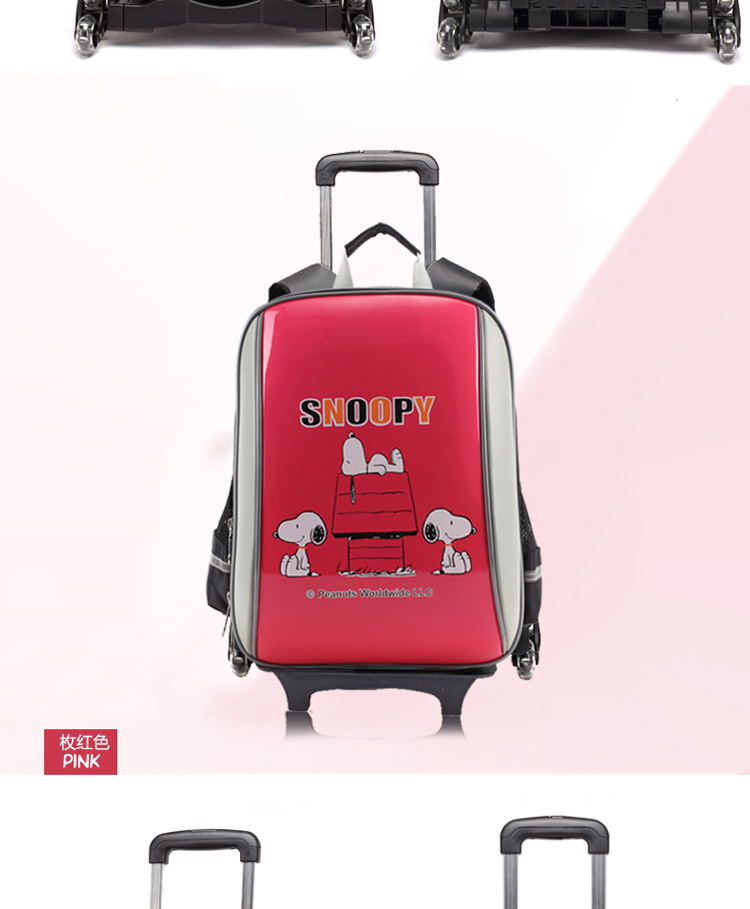luggage: (207, 150, 545, 731)
